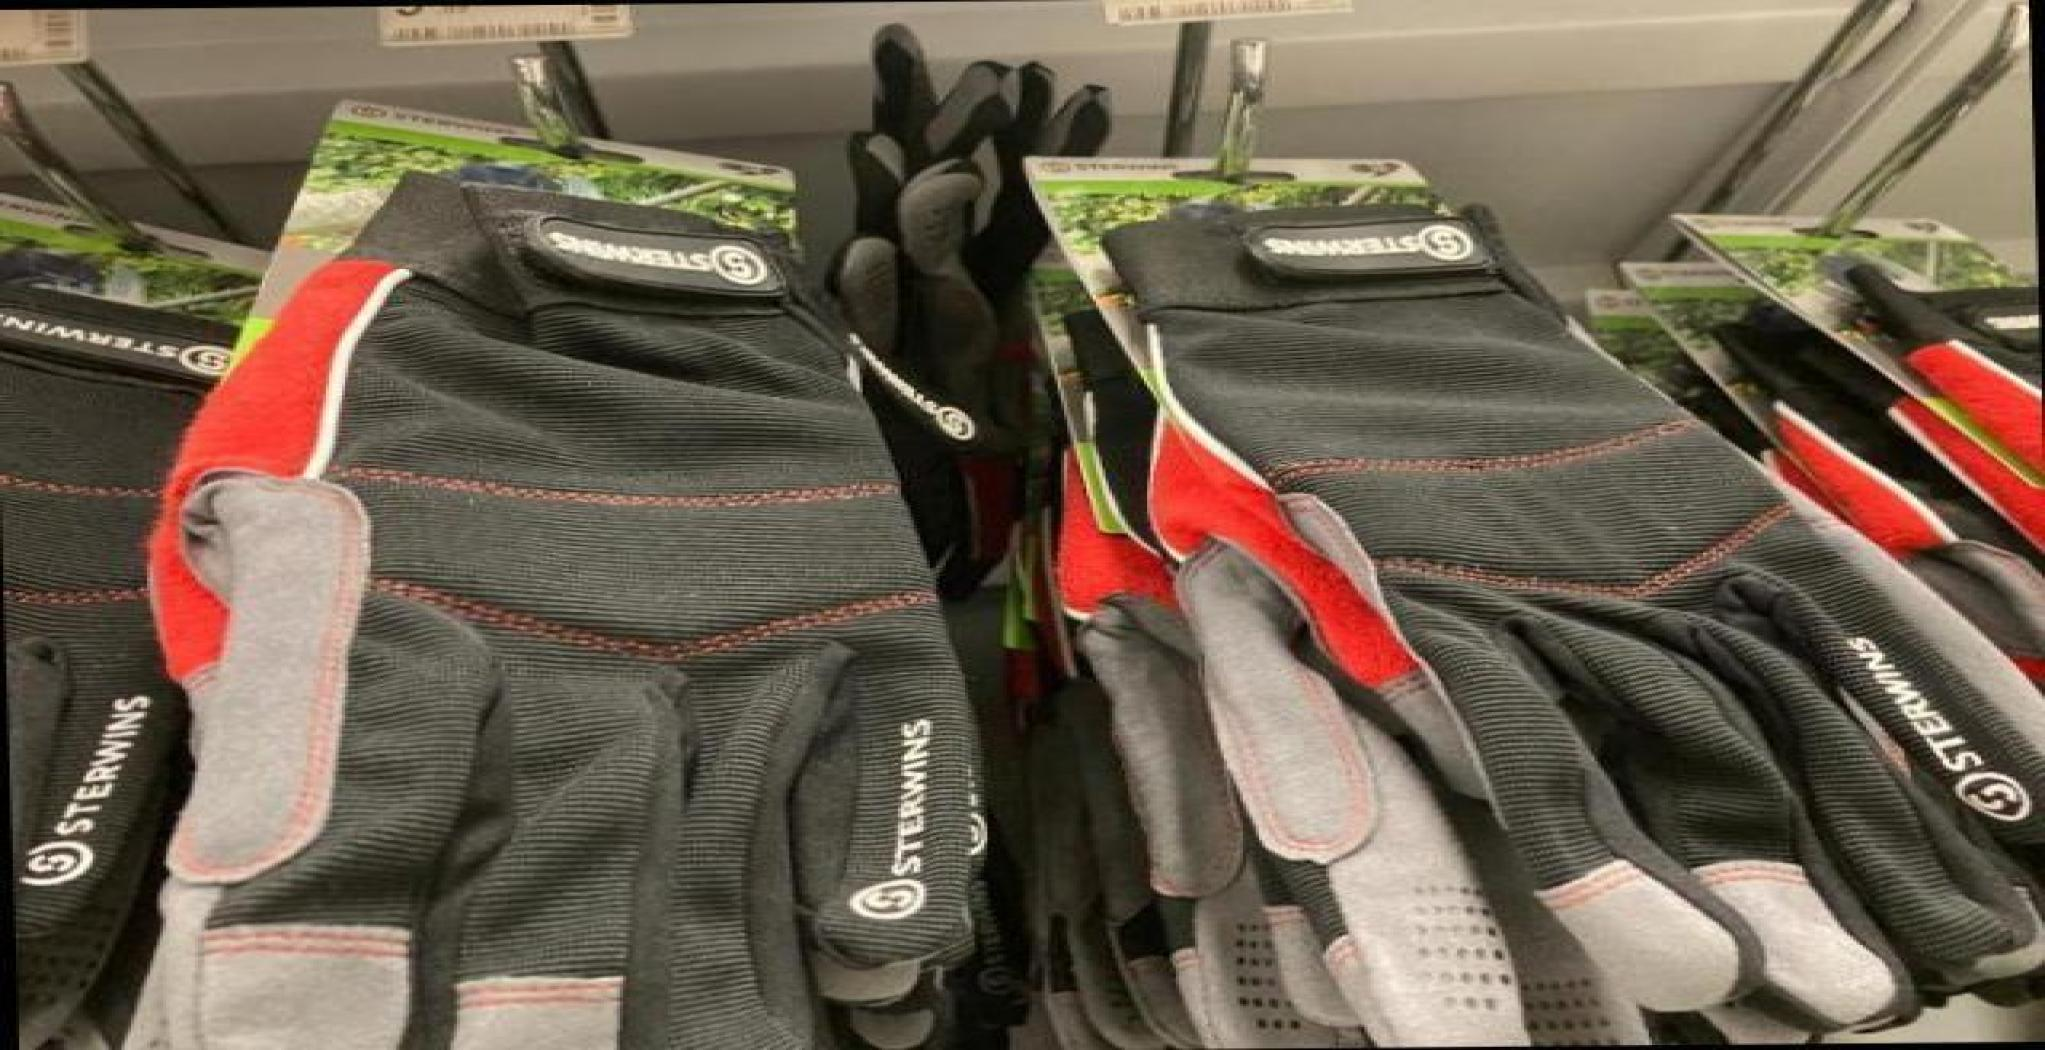gloved: (242, 182, 940, 1026)
